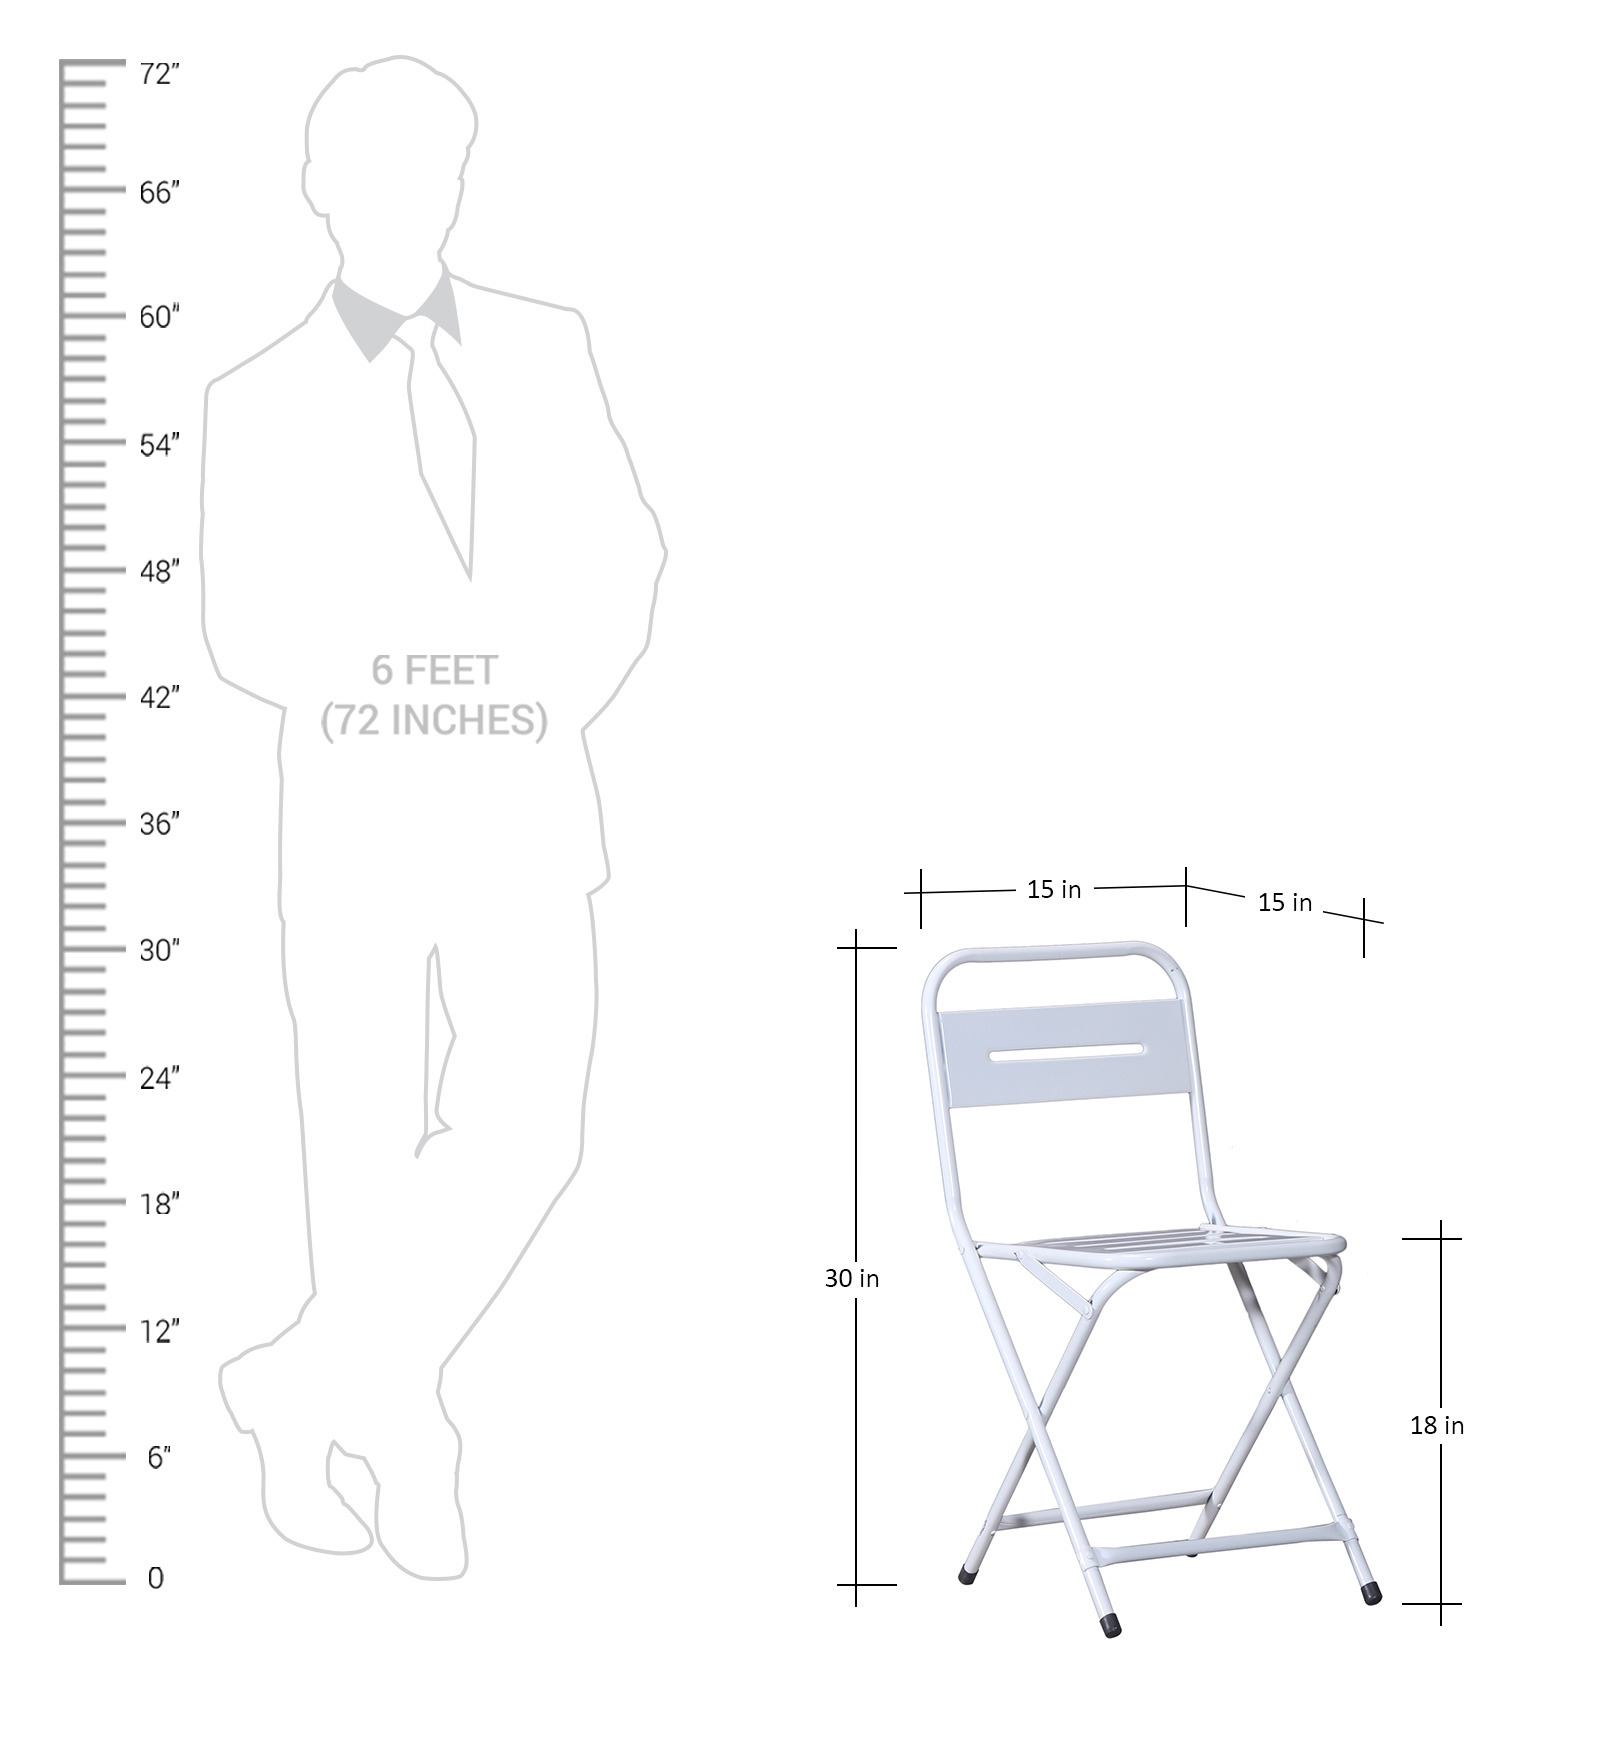Marandoo Grunge White Outdoor Folding Chair by Bohemiana: (916, 944, 1389, 1627)
